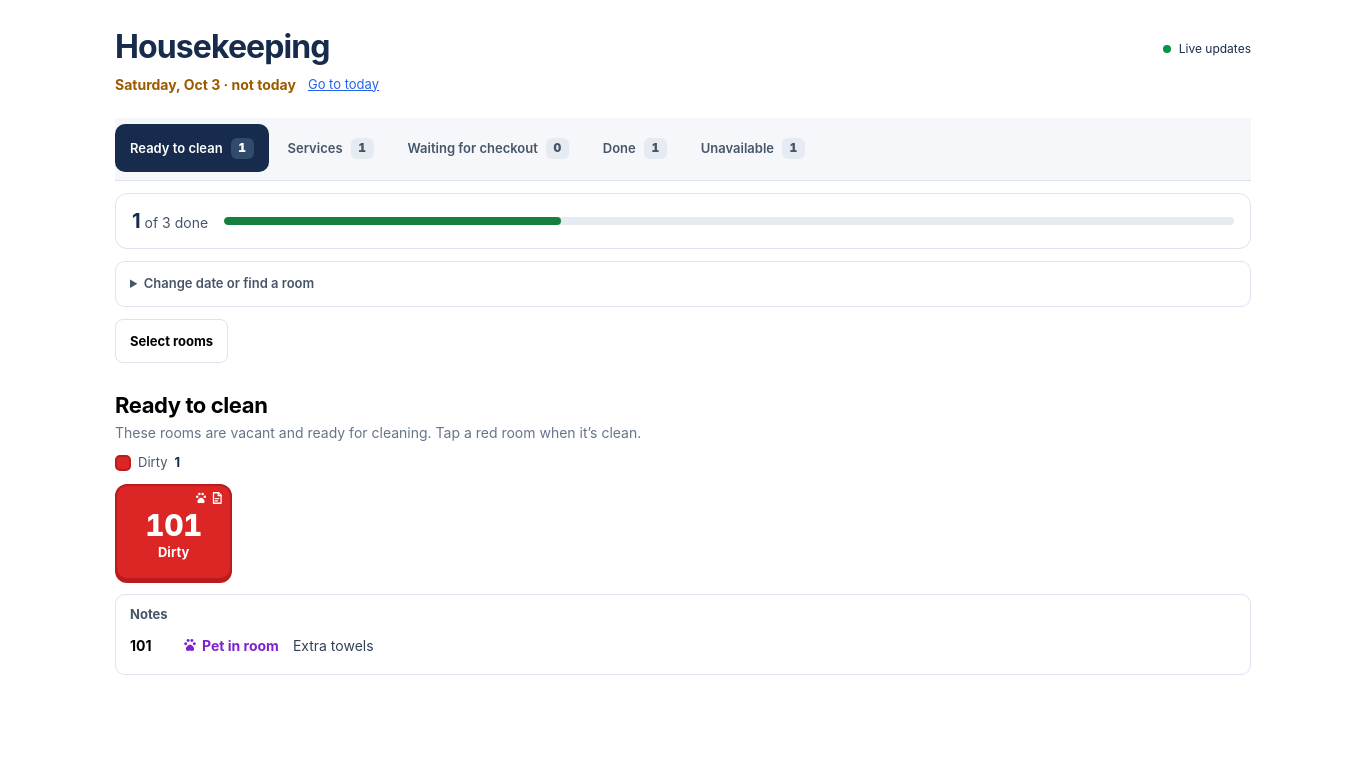
failed cleaning keeps the room red and explains that it was not saved
The width and height of the screenshot is (1366, 768).
Click the button with aria-label "Mark room 101 clean".
click(174, 532)  # box x1=115 y1=484 x2=232 y2=580
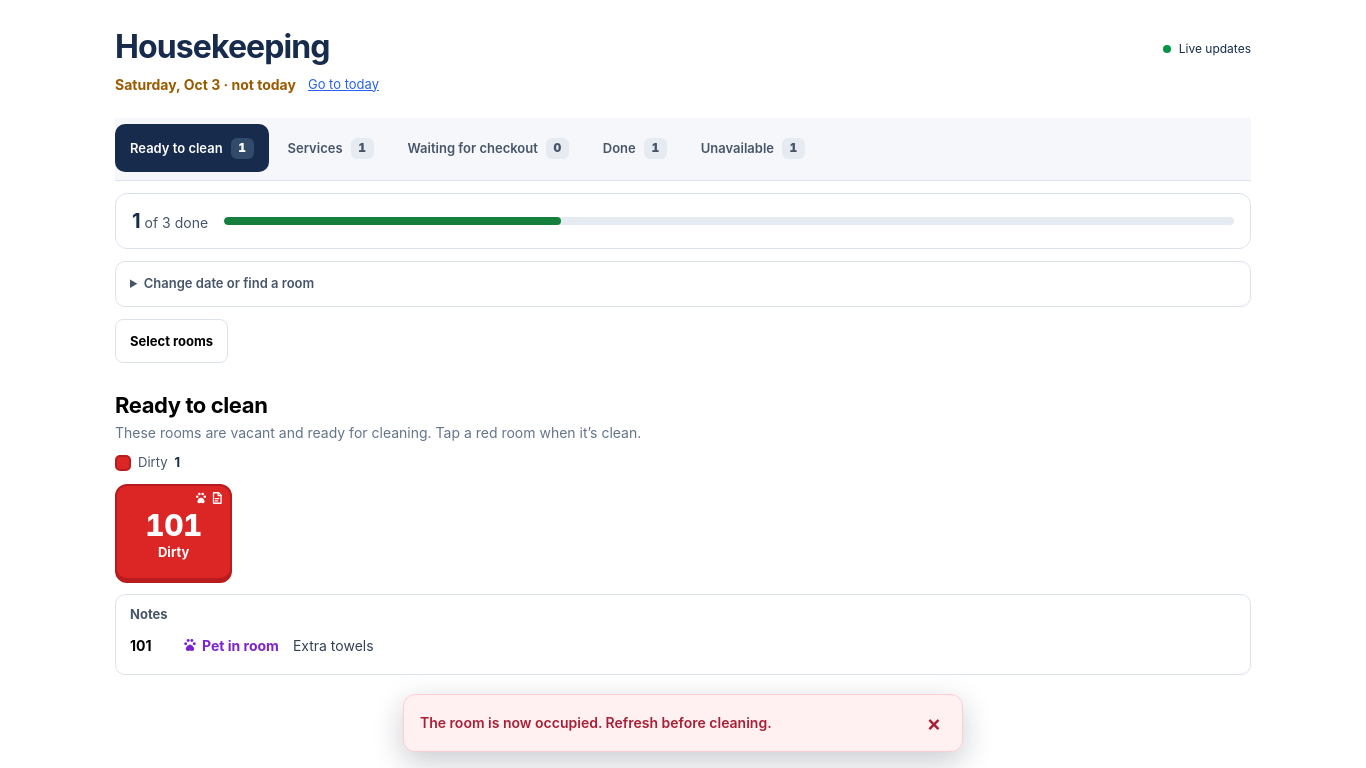
Check: the message "The room is now occupied. Refresh before cleaning. ×" is shown, box x1=403 y1=694 x2=963 y2=752
